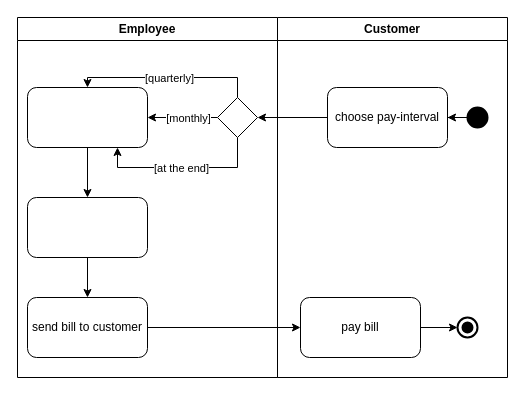
This 525x395 diagram has some shape labels left out. Here are the shapes that lost their labels. From the top down, the centre of each, then its label:
At point 87,117: "get period condition".
At point 87,227: "create bill".
